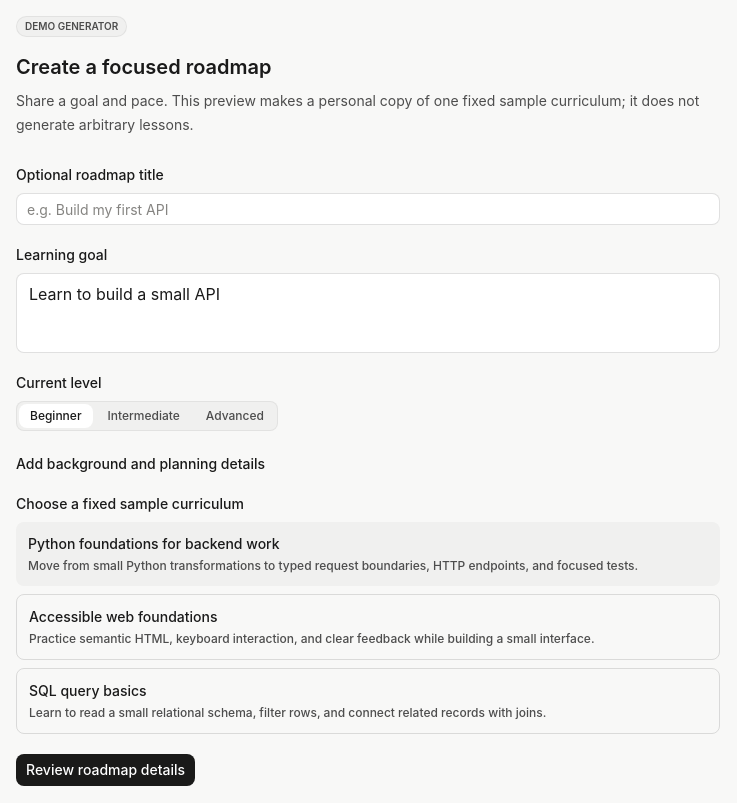
Test: generator product flow › accepts a goal without a title or outcome and supplies practical defaults
Click the button "Review roadmap details": (106, 770) [16, 754, 195, 786]
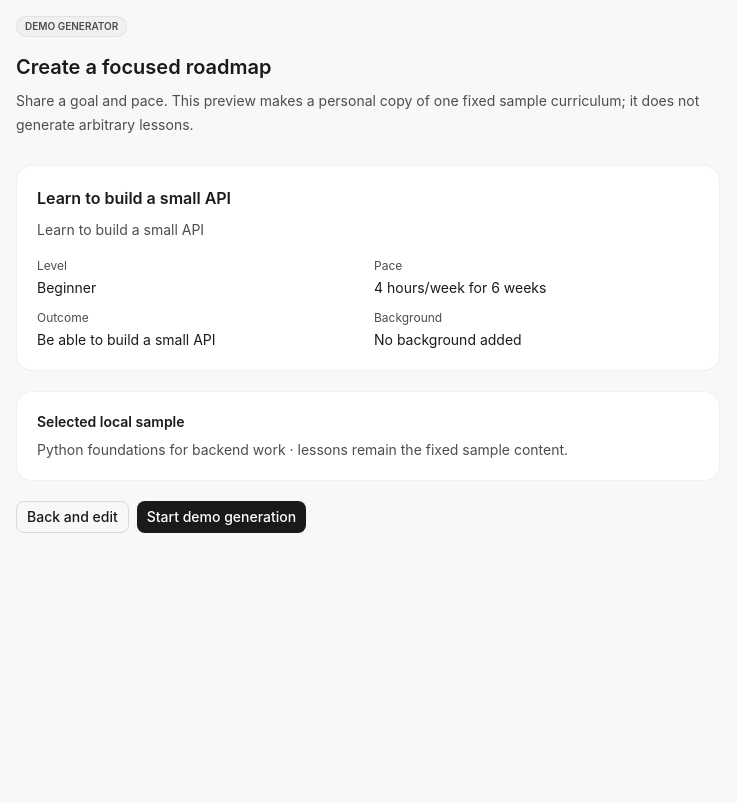
Now the heading "Learn to build a small API" is shown, box [37, 188, 231, 208]
Now the text "Be able to build a small API" is shown, box [37, 331, 216, 348]
